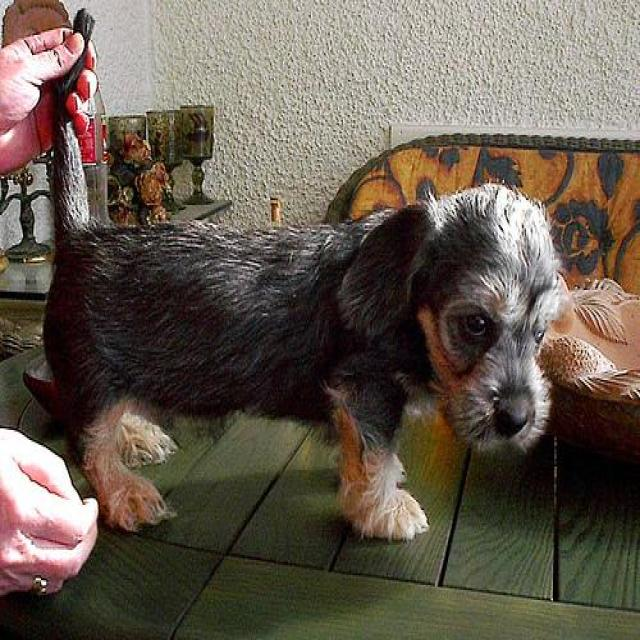dandie_dinmont: (41, 6, 563, 546)
